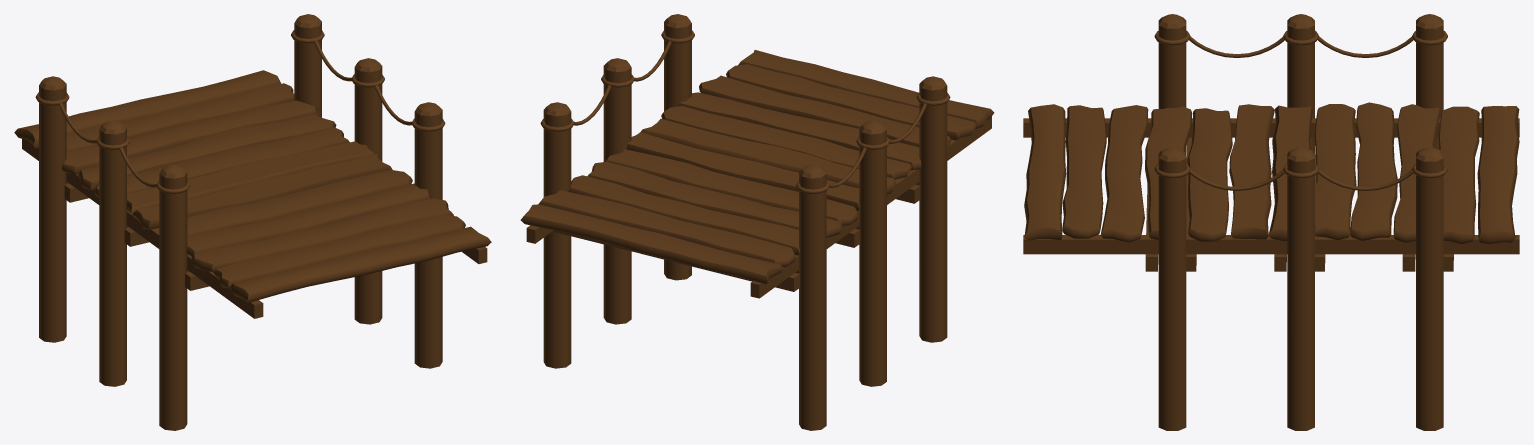
The model's file is Muelle.fbx.
3 views of the same model, side by side, from view 1: azimuth 30°, elevation 25°; view 2: azimuth 150°, elevation 25°; view 3: azimuth 270°, elevation 25° (orthographic). The views are drawn at different scales.
Parts seen in each view (by area): view 1: Muelle; view 2: Muelle; view 3: Muelle.
Part boxes in pixels (x1=…): Muelle: x1=14, y1=14, x2=491, y2=430; Muelle: x1=520, y1=14, x2=994, y2=430; Muelle: x1=1023, y1=14, x2=1519, y2=430.
Bounding box in the file's own units: 6.77 × 5.92 × 9.58.
